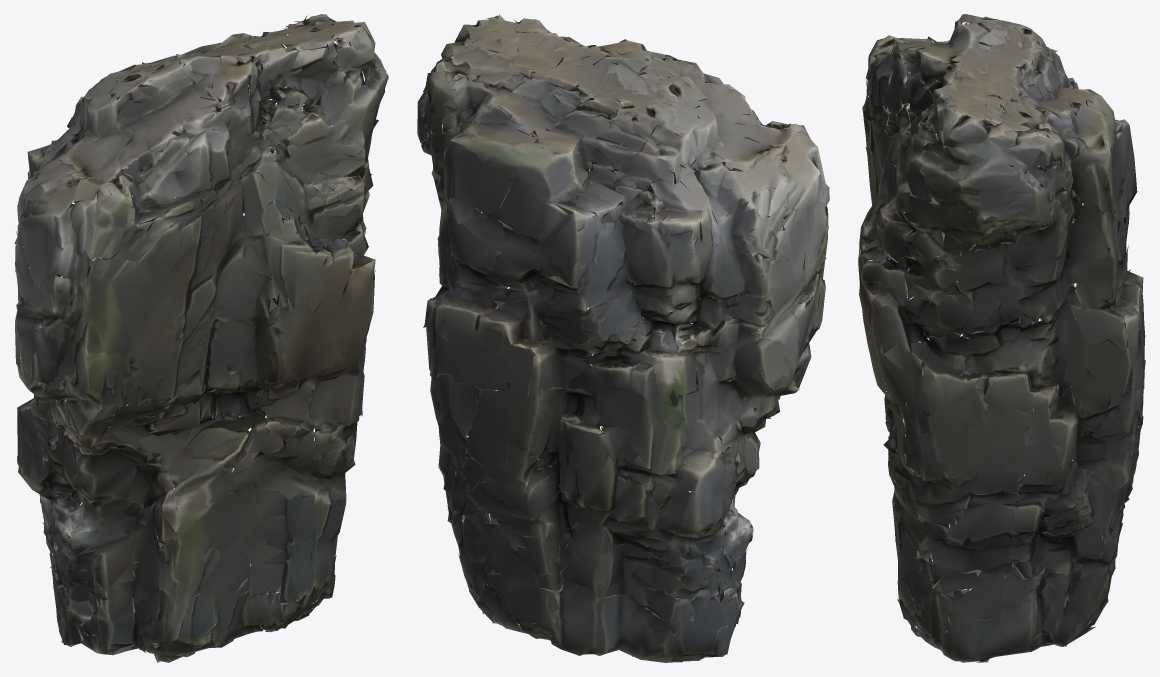
The model's file is Stone_town.glb.
3 renders of one model, left to right at view 1: azimuth 30°, elevation 25°; view 2: azimuth 150°, elevation 25°; view 3: azimuth 270°, elevation 25°, orthographic. The views are drawn at different scales.
Visible parts, largest first — view 1: Stone; view 2: Stone; view 3: Stone.
Part boxes in pixels (<box>): Stone: <box>14,14,388,662</box>; Stone: <box>417,14,829,662</box>; Stone: <box>858,14,1145,662</box>.
Size of the model in its own units: 1.2 by 1.91 by 0.8229.
Materials: 1 (1 with a texture image).
